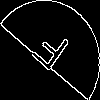F: (25, 25, 72, 80)
